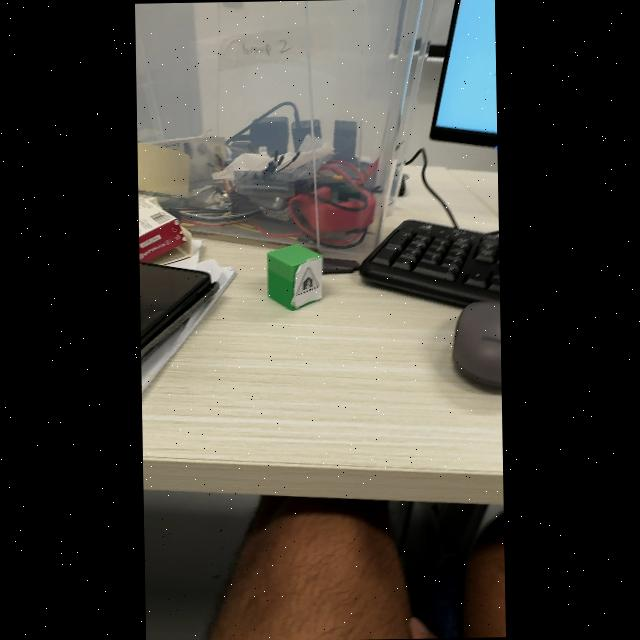Earthquake: (296, 267, 319, 294)
